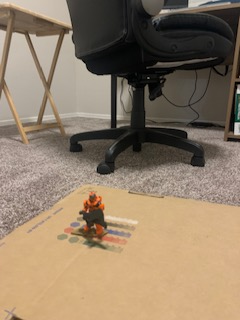soldier: (79, 191, 111, 237)
